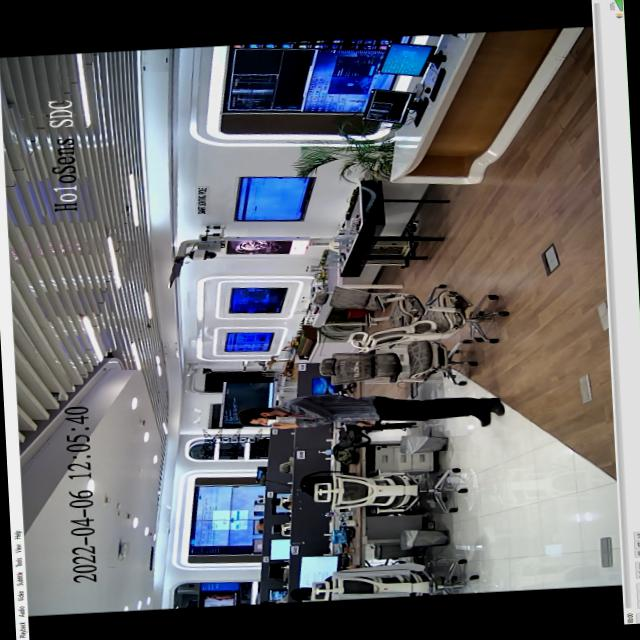long weapon: (338, 416, 423, 436)
